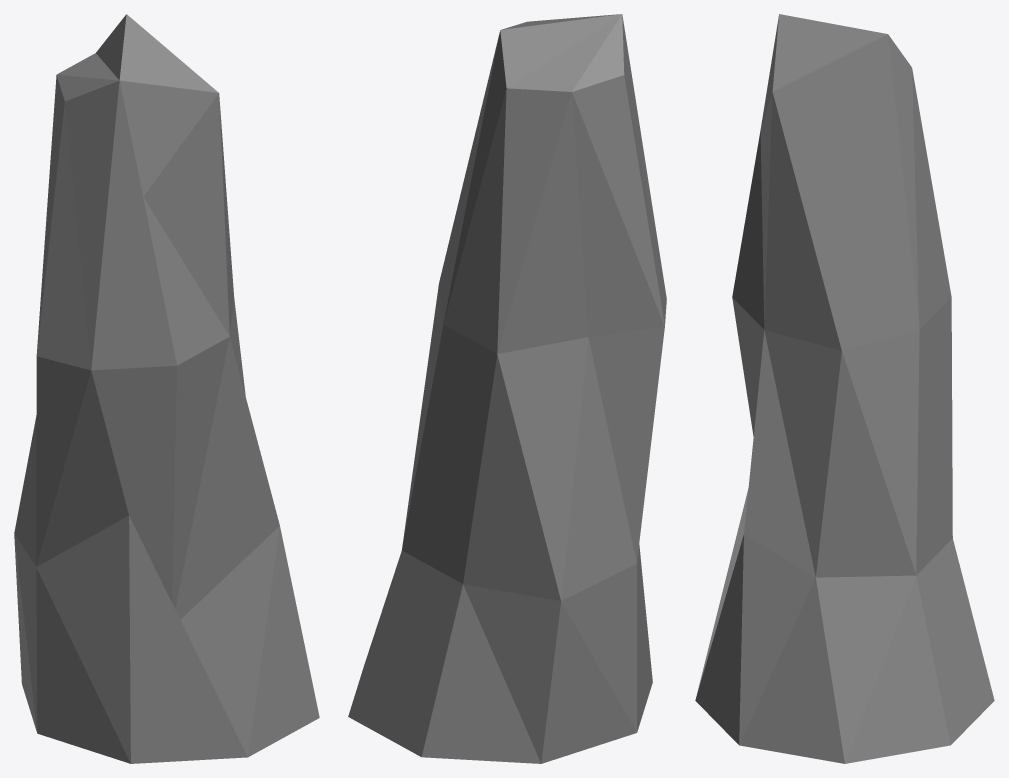
Rendered from Stalagmite 1.fbx.
The picture shows the model from 3 angles, left to right: view 1: azimuth 30°, elevation 25°; view 2: azimuth 150°, elevation 25°; view 3: azimuth 270°, elevation 25°; orthographic projection. The views are drawn at different scales.
Parts seen in each view (by area): view 1: Stalagmite_1; view 2: Stalagmite_1; view 3: Stalagmite_1.
Boxes of the visible parts, x1,y1,x2,y2 form: Stalagmite_1: (14, 14, 319, 763); Stalagmite_1: (348, 14, 666, 763); Stalagmite_1: (695, 14, 994, 763).
Size of the model in its own units: 115 by 265 by 109.
Materials: 1 (1 with a texture image).
